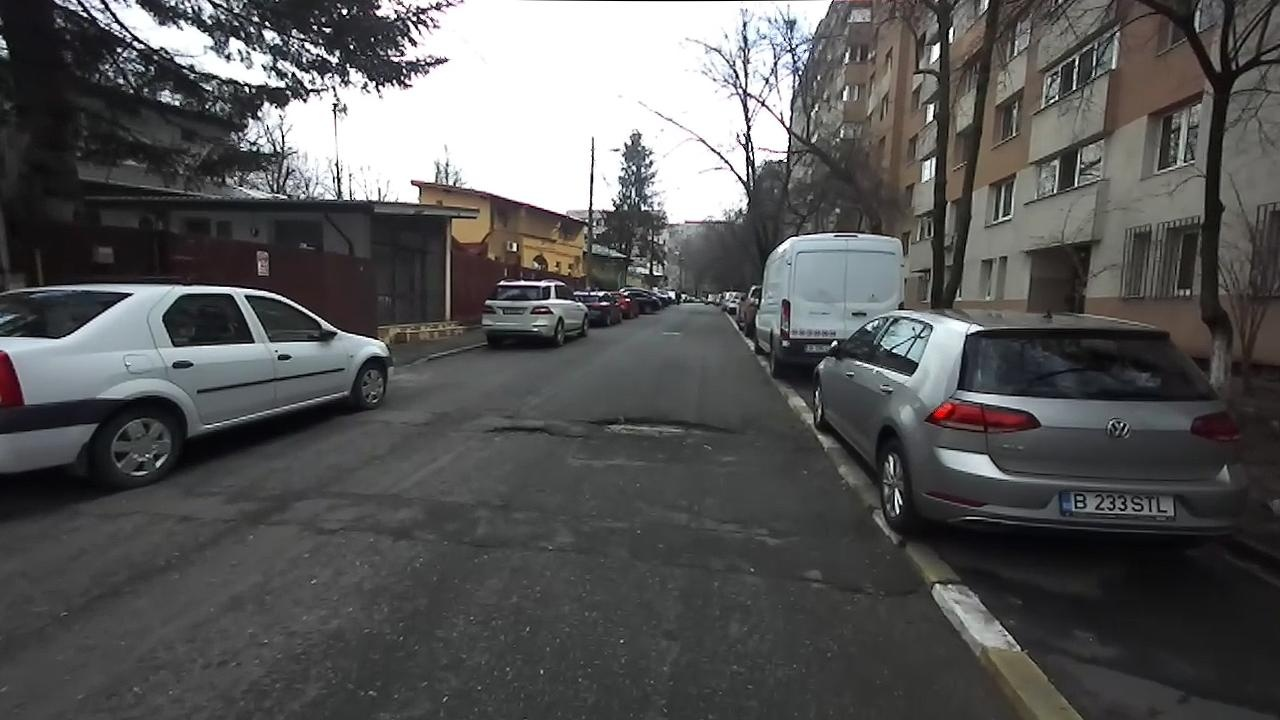pothole: (590, 413, 738, 441), (807, 580, 914, 601), (481, 423, 553, 437), (561, 432, 585, 437)
